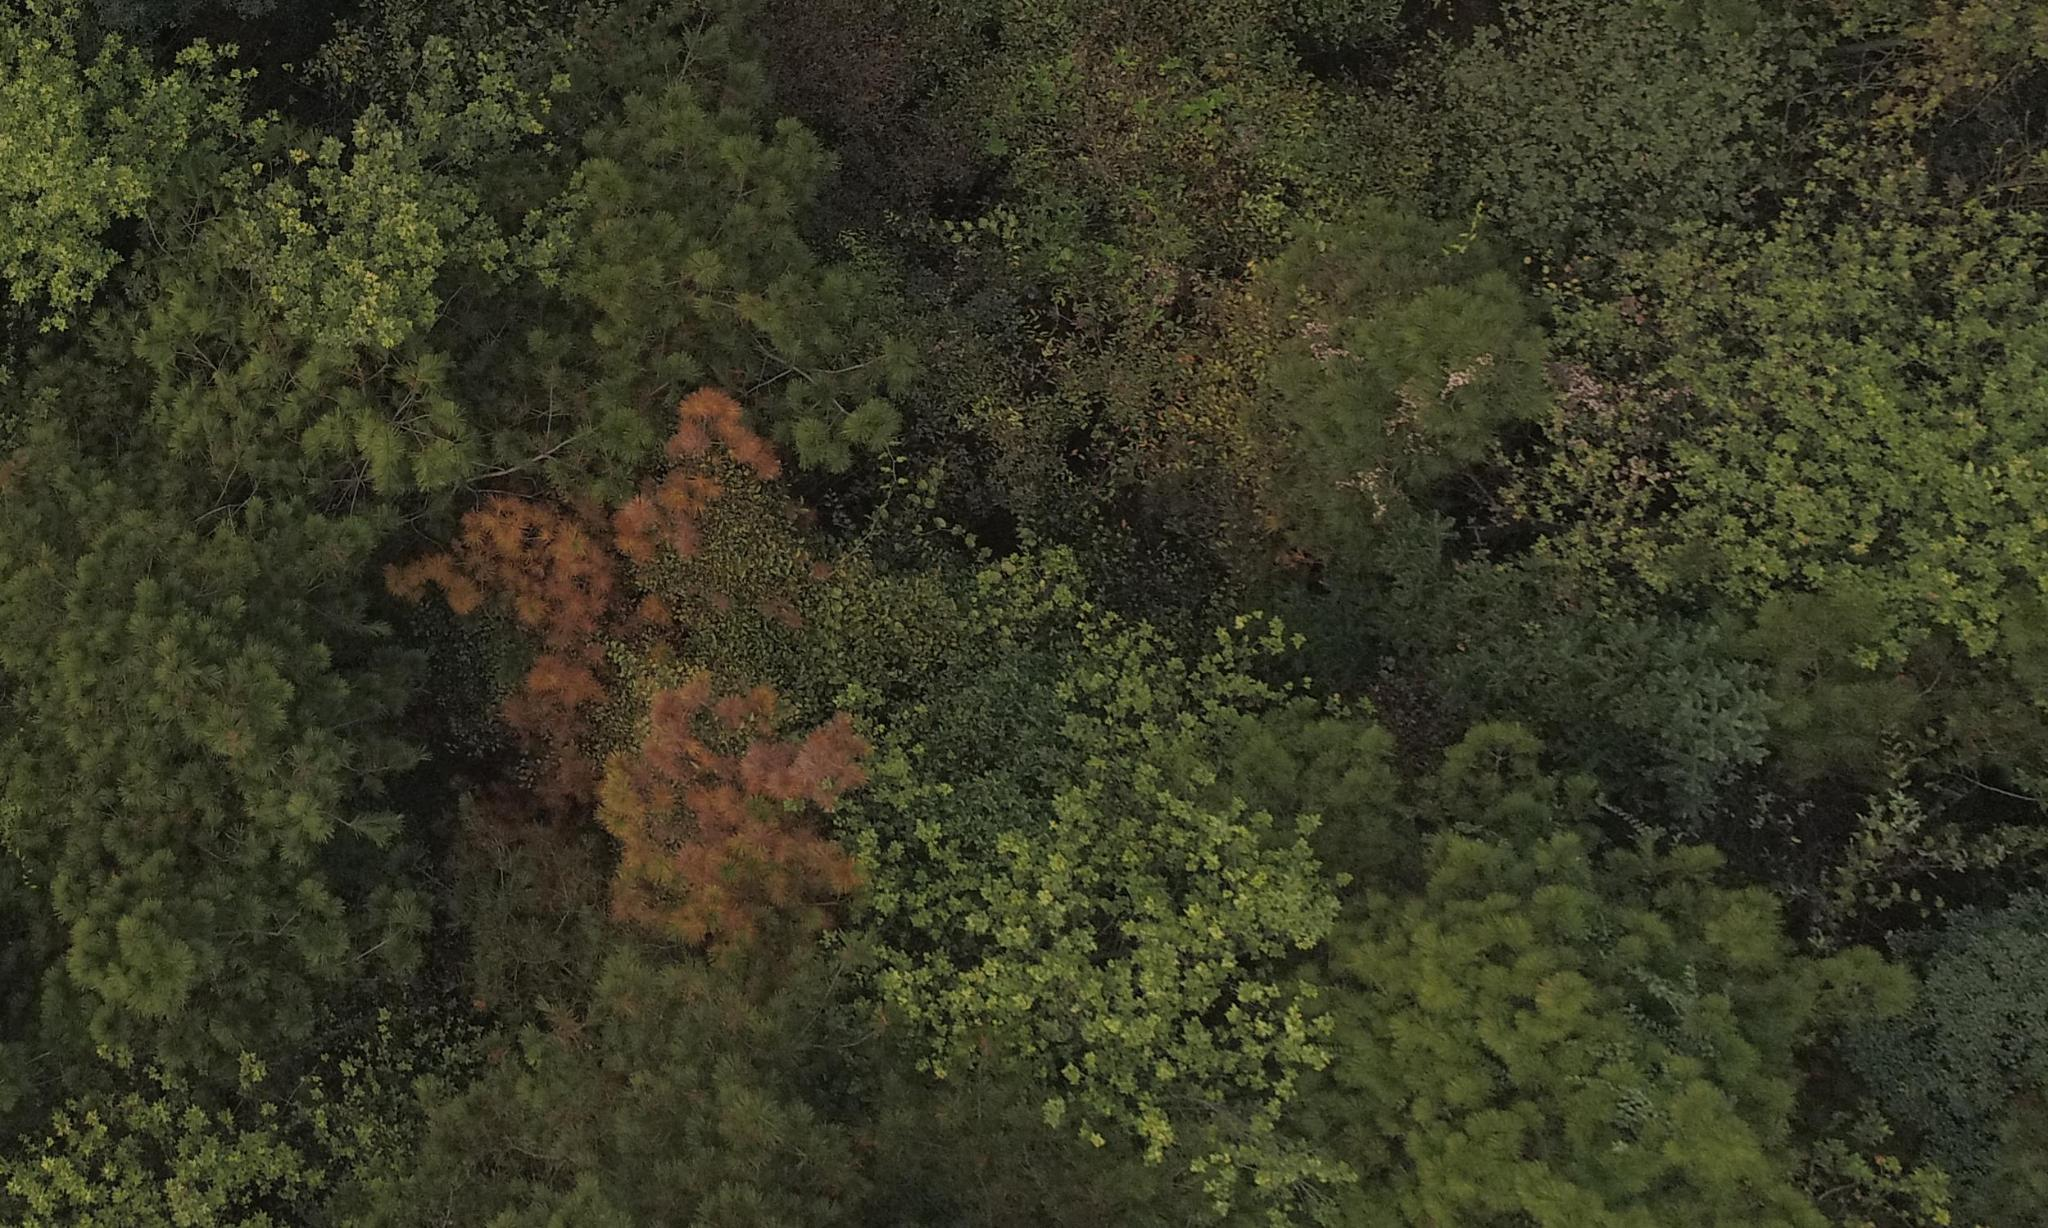heavy: (390, 491, 598, 708), (612, 373, 784, 561)
light: (591, 718, 883, 974)
